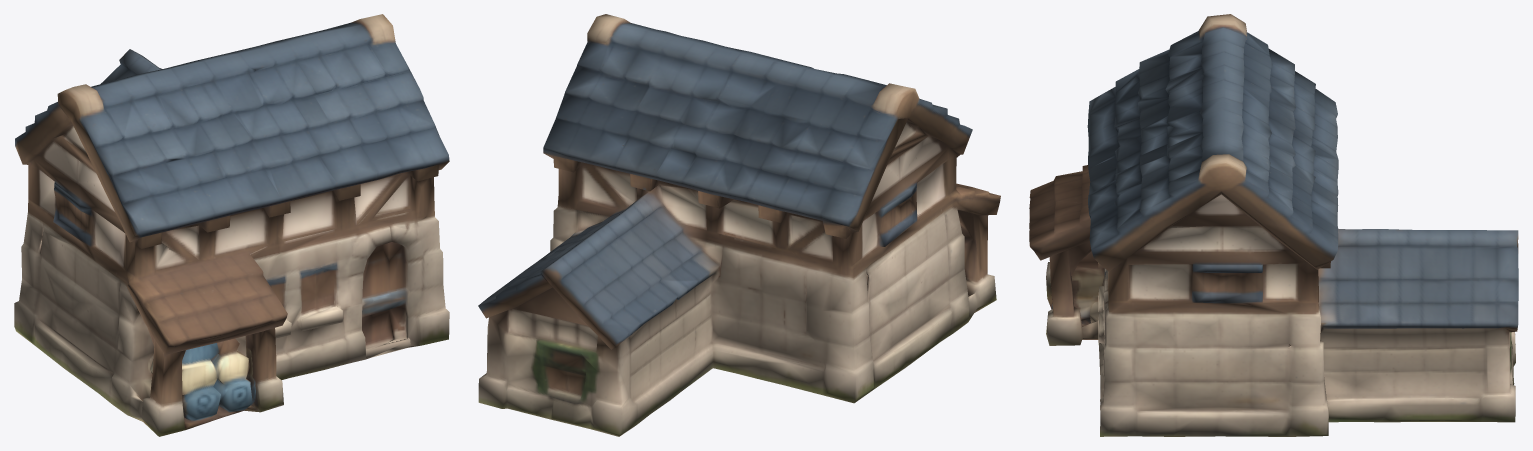
The model's file is weaver.glb.
3 renders of one model, left to right at view 1: azimuth 30°, elevation 25°; view 2: azimuth 150°, elevation 25°; view 3: azimuth 270°, elevation 25°, orthographic. The views are drawn at different scales.
Parts seen in each view (by area): view 1: geometry_0.001; view 2: geometry_0.001; view 3: geometry_0.001.
Boxes of the visible parts, <box> form: geometry_0.001: <box>14,14,449,436</box>; geometry_0.001: <box>478,14,1000,436</box>; geometry_0.001: <box>1029,14,1518,436</box>.
Bounding box in the file's own units: 1.49 × 1.23 × 2.
1 material, 1 textured.
